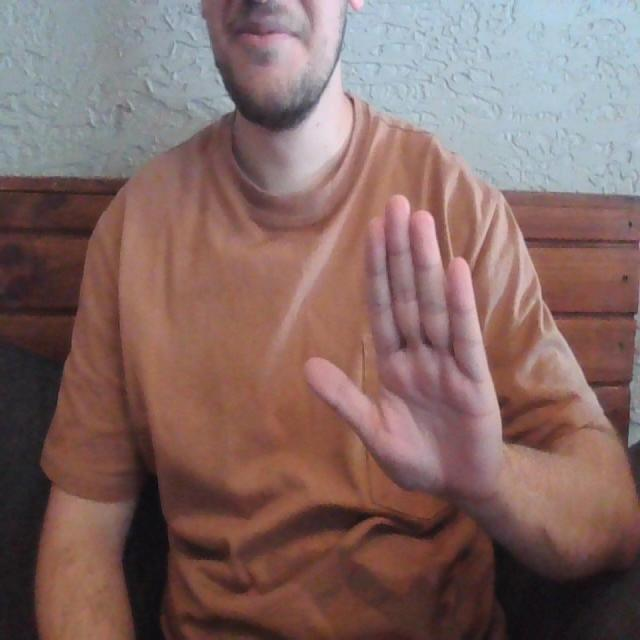Dur: (291, 177, 538, 514)
